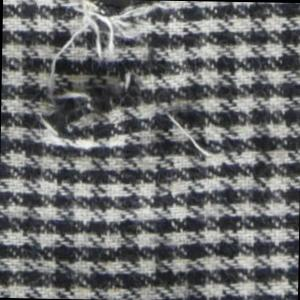Damage: (21, 1, 247, 189)
